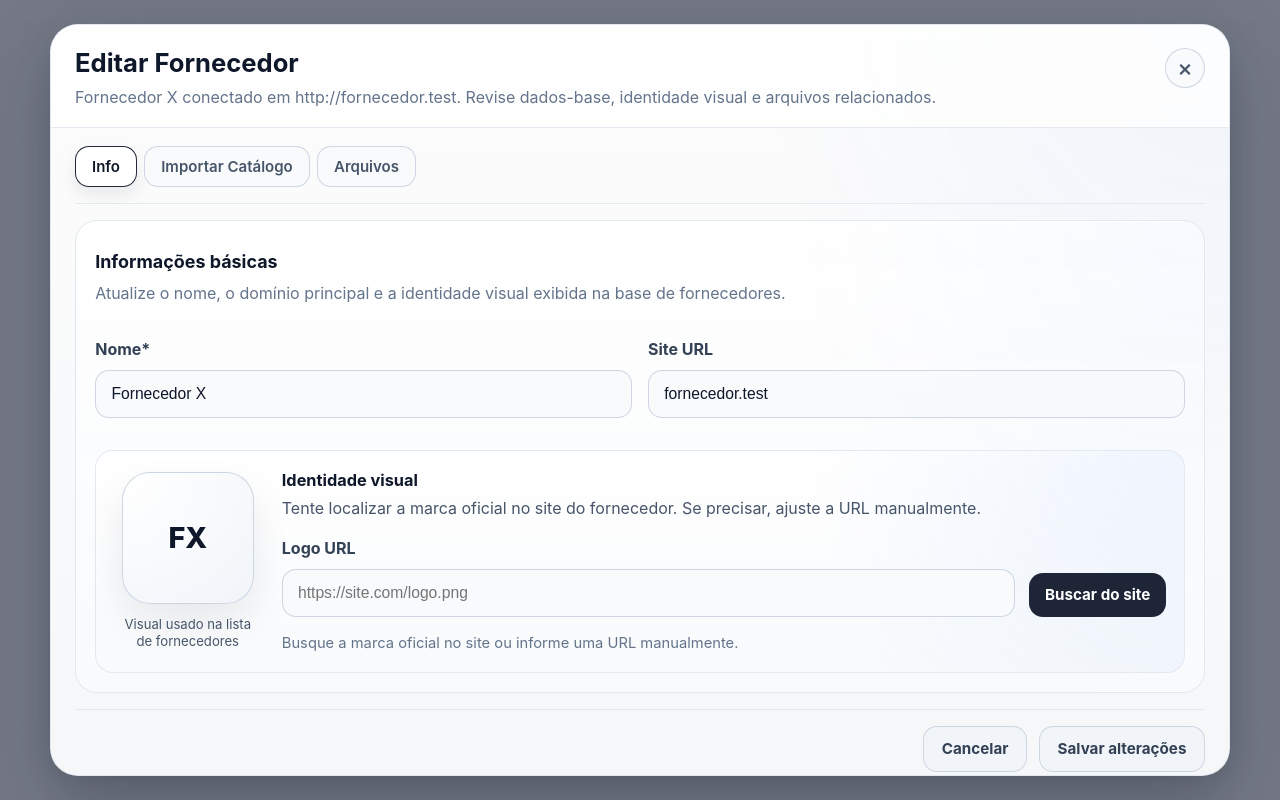
Test case: EditFornecedorModal › resolves and previews the supplier logo from the informed site
Step 1. Click the button "Buscar do site" → (1098, 595), box [1029,573,1166,617]
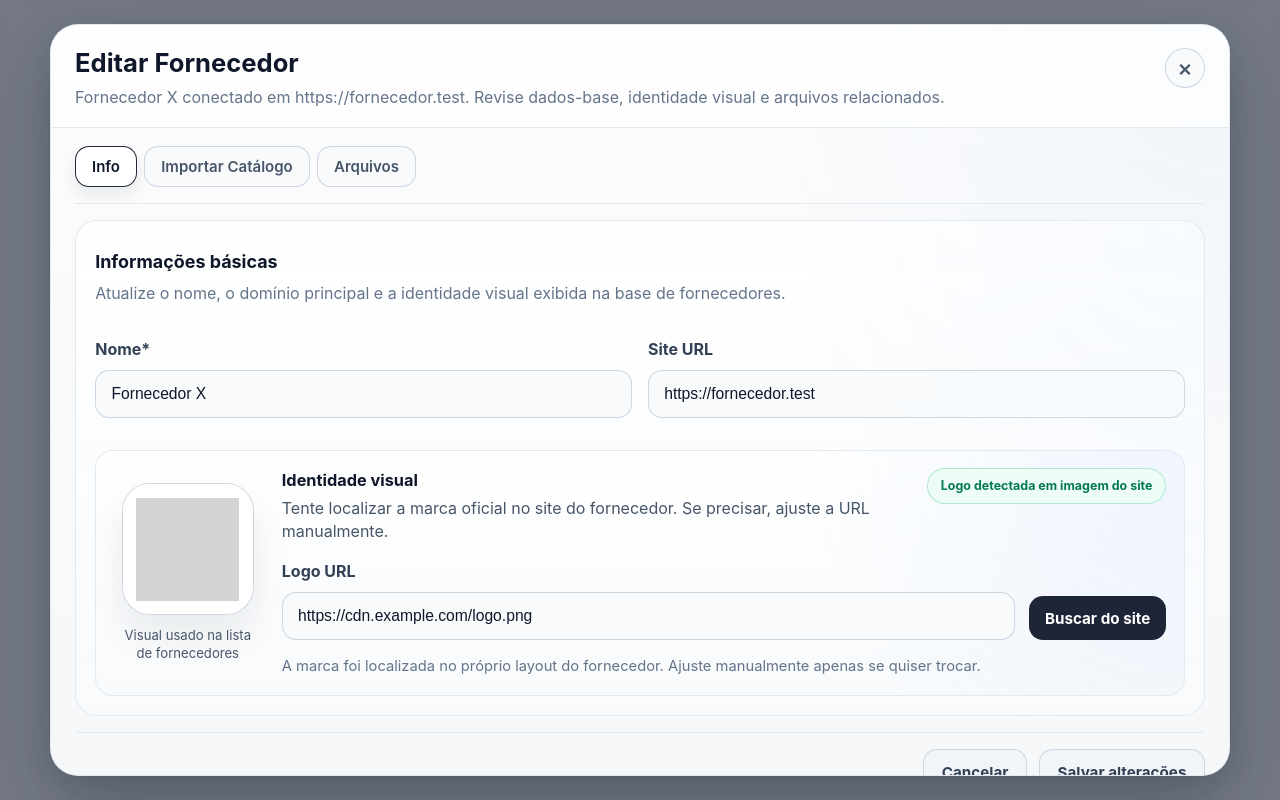
Check: the field labelled "Logo URL" holds "https://cdn.example.com/logo.png", box [282,592,1015,640]
